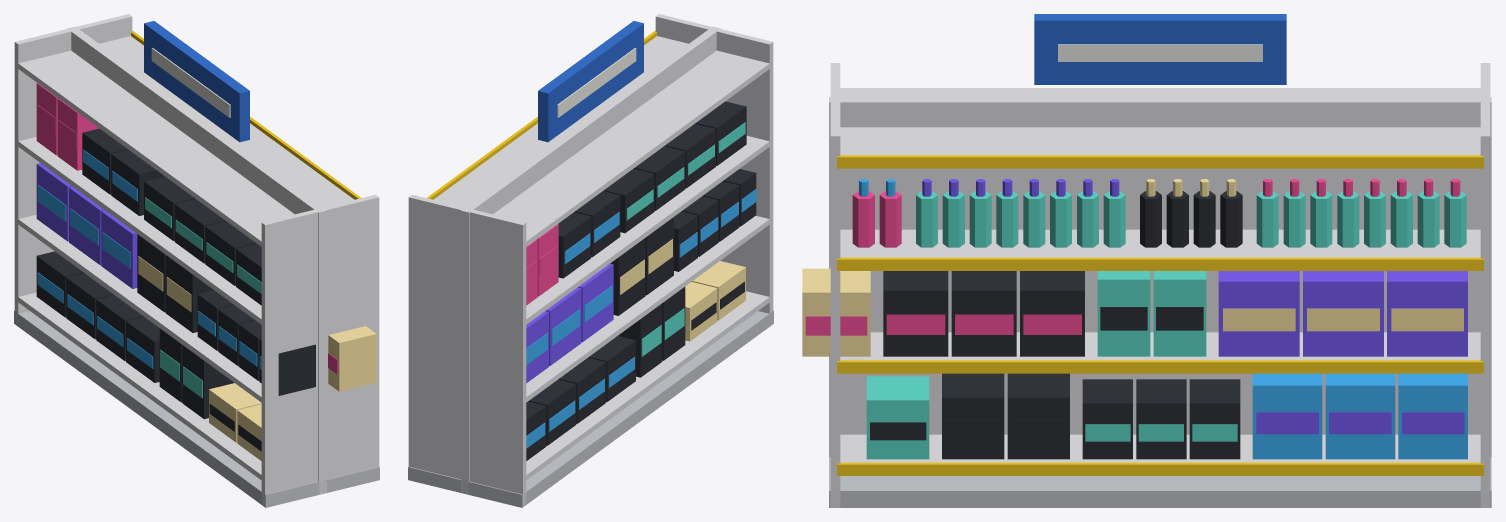
File: gondola-c.glb
3 views of the same model, side by side, from view 1: azimuth 30°, elevation 25°; view 2: azimuth 150°, elevation 25°; view 3: azimuth 270°, elevation 25° (orthographic). The views are drawn at different scales.
Visible parts, largest first — view 1: gondola-c; view 2: gondola-c; view 3: gondola-c.
Boxes of the visible parts, x1,y1,x2,y2 form: gondola-c: (14,14,379,507); gondola-c: (408,14,773,507); gondola-c: (802,14,1491,507).
Bounding box in the file's own units: 1.12 × 3.17 × 4.37.
